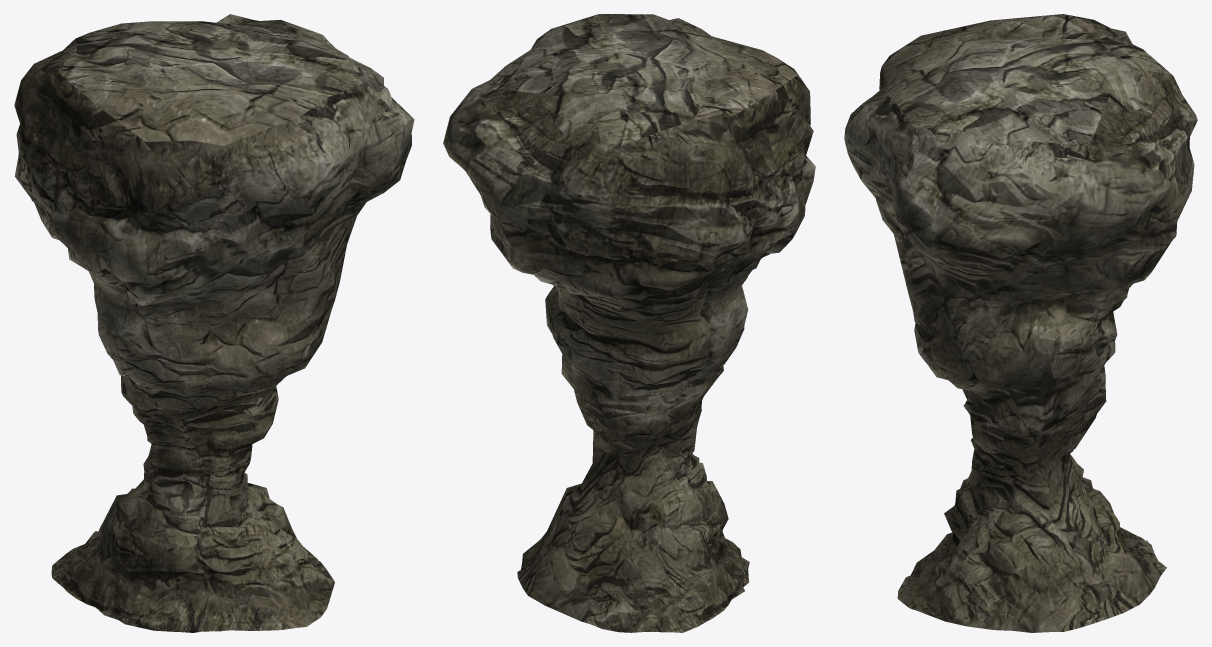
The model's file is MEP_Cliff_06.fbx.
3 renders of one model, left to right at view 1: azimuth 30°, elevation 25°; view 2: azimuth 150°, elevation 25°; view 3: azimuth 270°, elevation 25°, orthographic. The views are drawn at different scales.
Visible parts, largest first — view 1: MEP_Desert_Cliff_06; view 2: MEP_Desert_Cliff_06; view 3: MEP_Desert_Cliff_06.
Boxes of the visible parts, x1,y1,x2,y2 form: MEP_Desert_Cliff_06: (14,14,414,632); MEP_Desert_Cliff_06: (443,14,815,632); MEP_Desert_Cliff_06: (844,14,1197,632).
Size of what is drawn, in the model's own units: 1108 by 1783 by 1102.
1 material, 1 textured.
